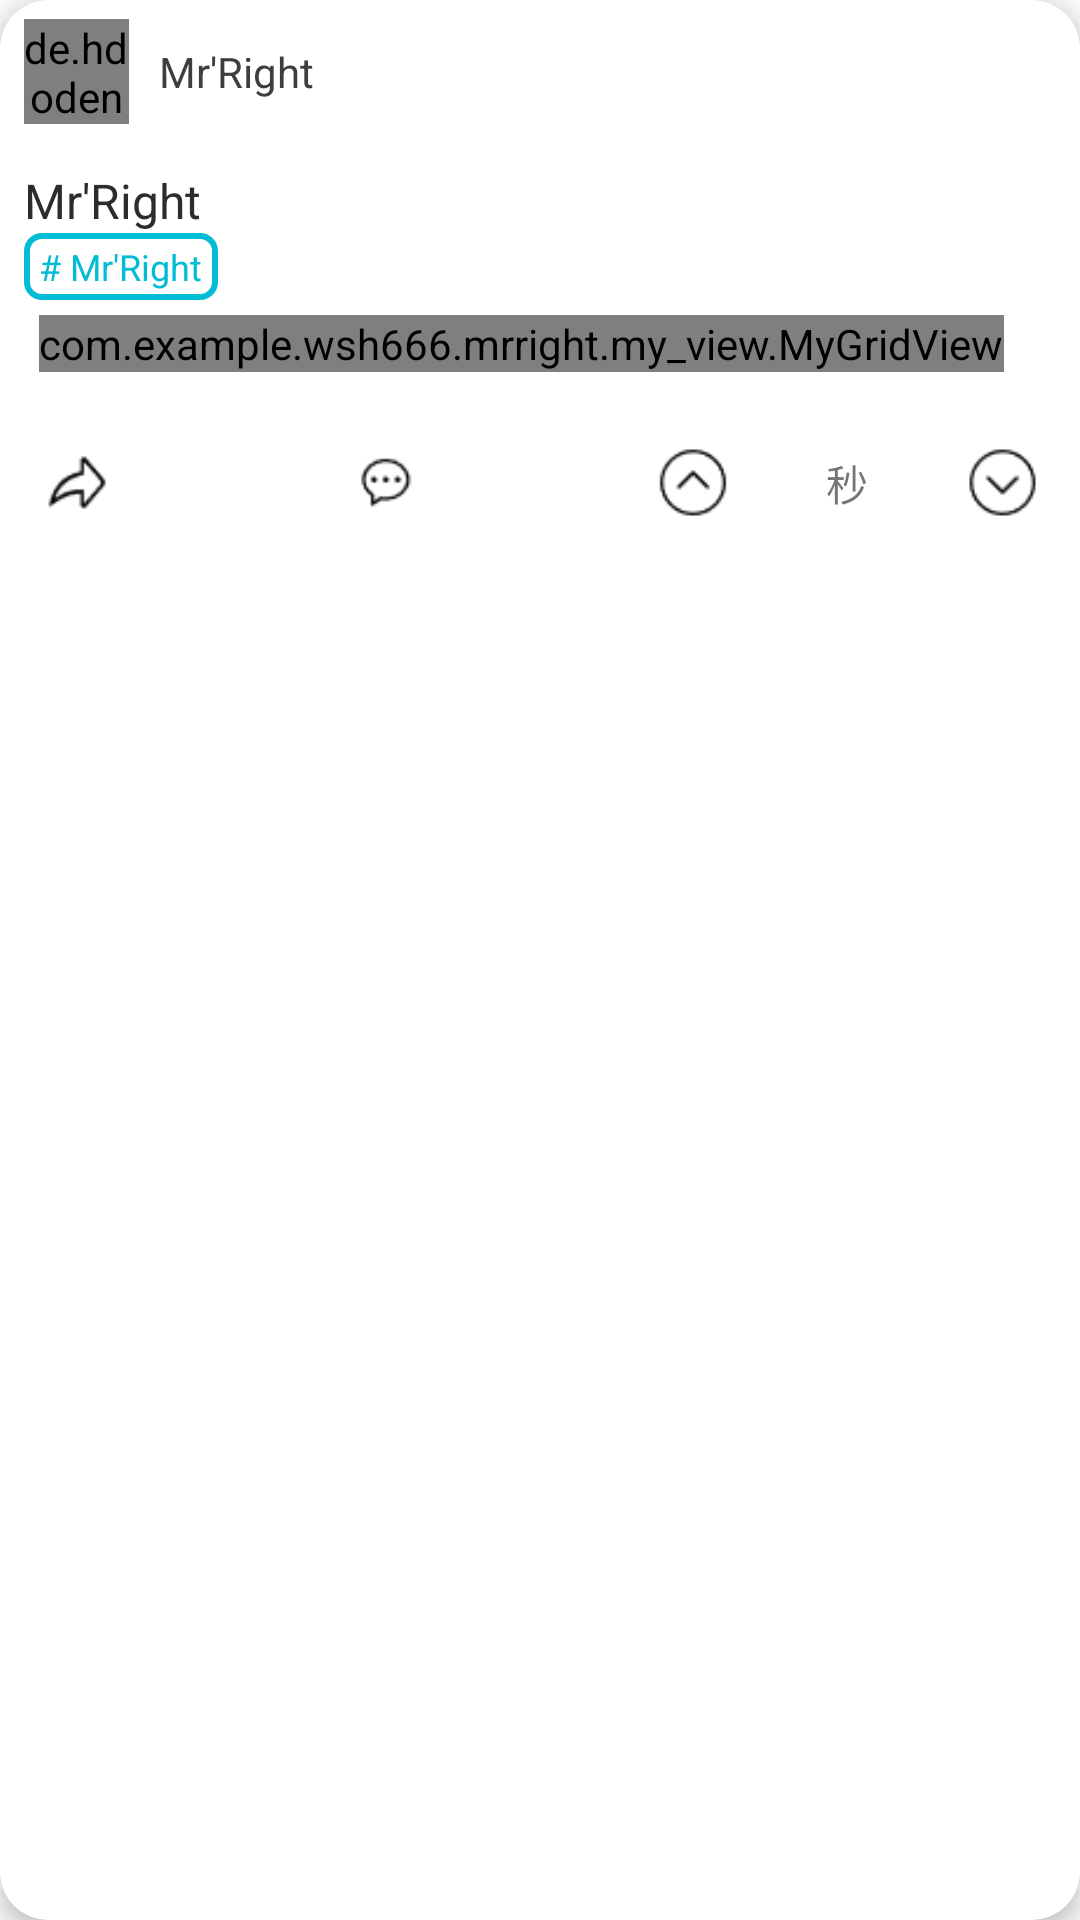

Icon bounding boxes for this 1080w x 1920h phone screenshot, format (x1, y1, x2, y2):
down: (969, 449, 1036, 516)
pinglun: (361, 458, 411, 507)
zhuanfa: (48, 456, 106, 509)
